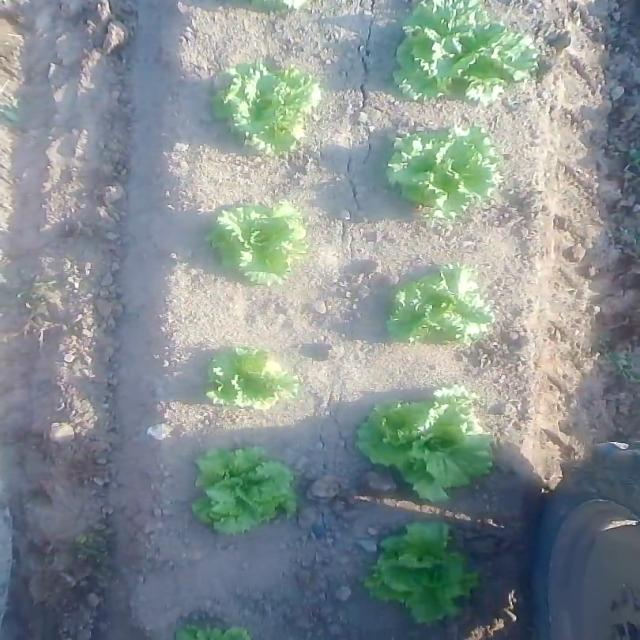Lettuce-Ready-to-Harvest: (358, 385, 491, 503), (389, 121, 498, 215), (190, 442, 297, 535), (212, 60, 312, 154), (207, 203, 314, 287), (385, 266, 495, 345), (198, 346, 297, 410)
